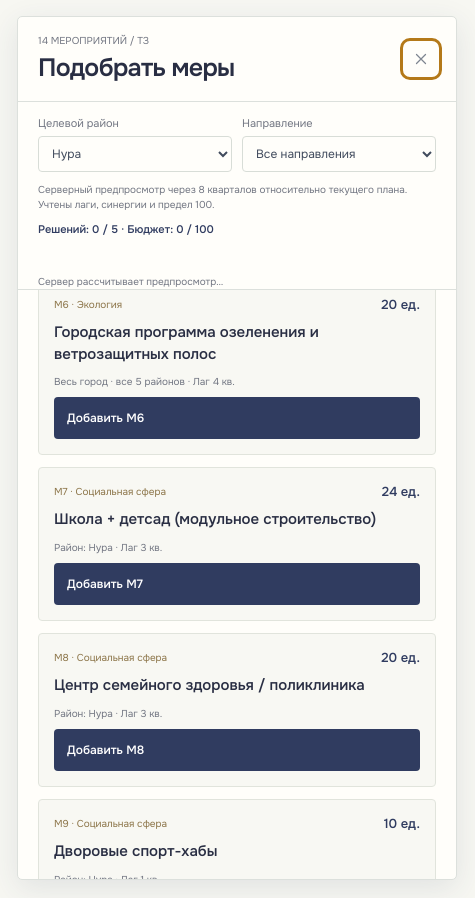
Test case: server-owned measure preview › keeps catalog metadata and editing available while awaiting authoritative effects
This screenshot has width=475, height=898.
(page scrolled)
Expected: the text "24 ед." is shown, [382, 483, 420, 500]
Expected: the text "Район: Нура · Лаг 3 кв." below "Школа + детсад (модульное строительство)" is shown, [54, 541, 162, 554]
Click the button "Добавить M7" at (97, 584), box [54, 563, 420, 605]
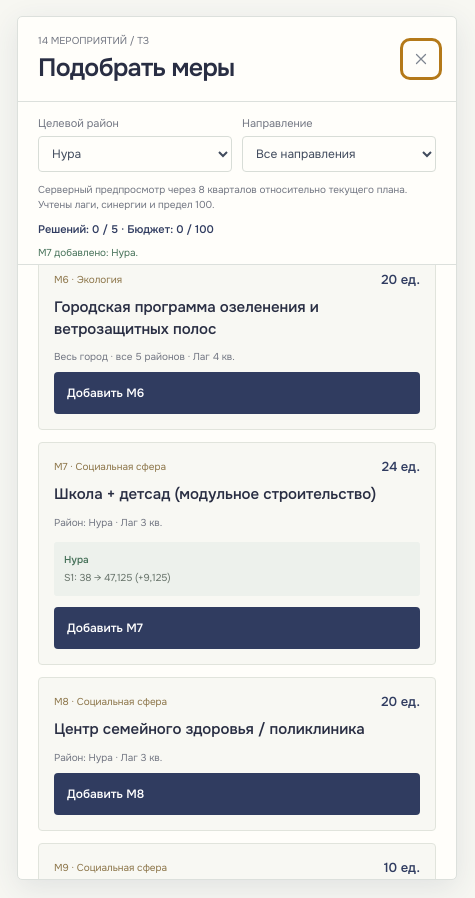
Now the text "S1: 38 → 47,125 (+9,125)" is shown, box [64, 571, 171, 584]
Now the text "Сервер рассчитывает предпросмотр…" is gone
